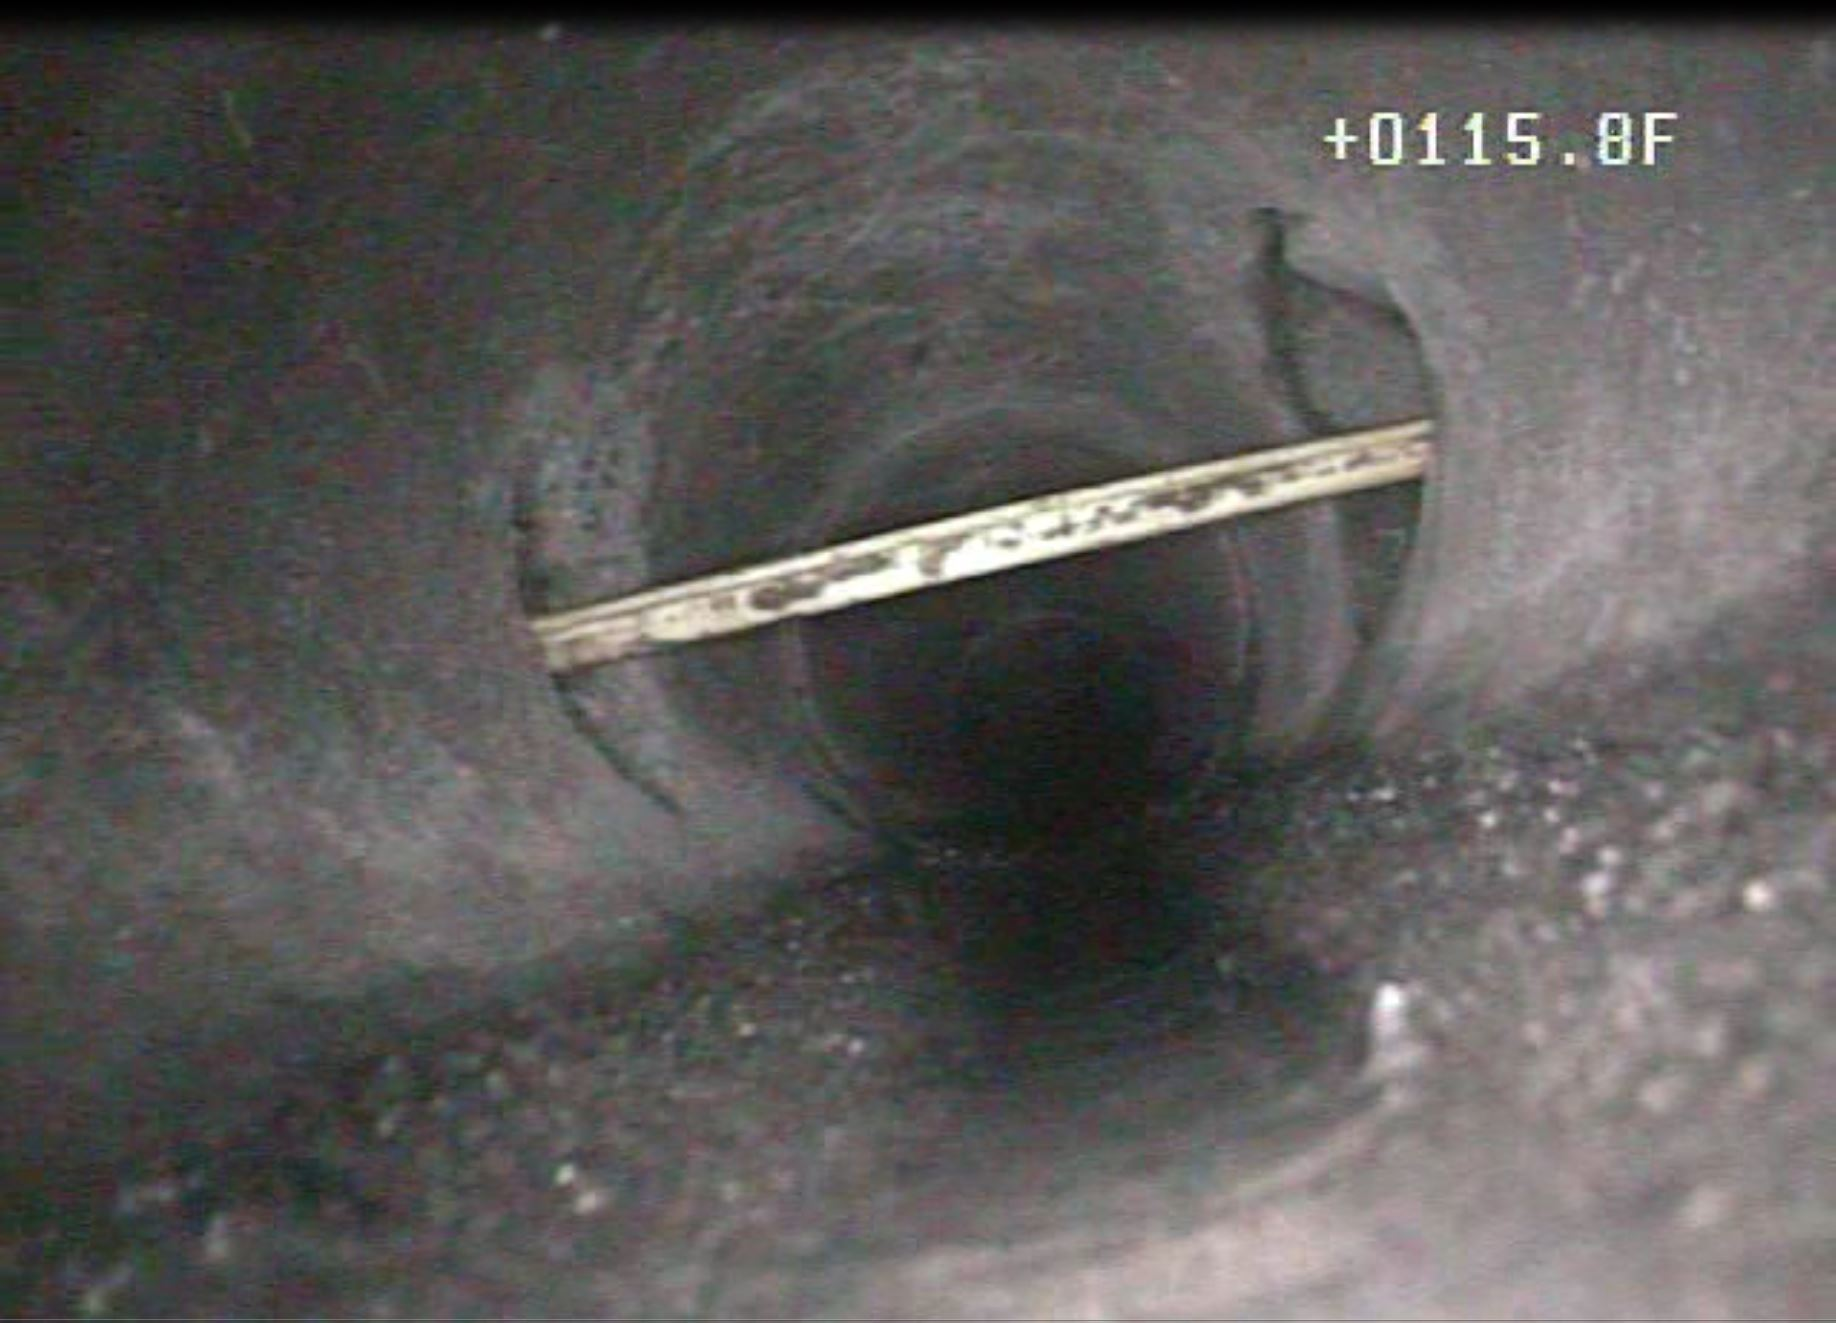cb: (409, 398, 1510, 701)
